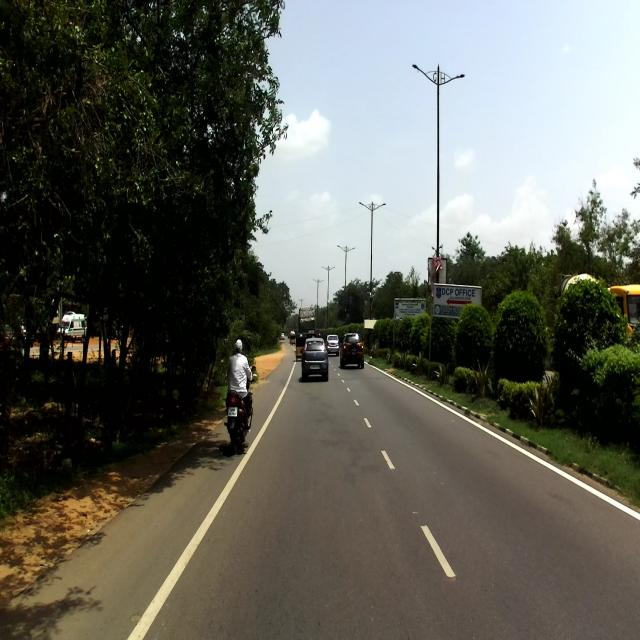Car_Fiat: (300, 336, 330, 380)
Car_Ford: (338, 331, 364, 369)
motorcycle_Honda: (223, 365, 256, 454)
